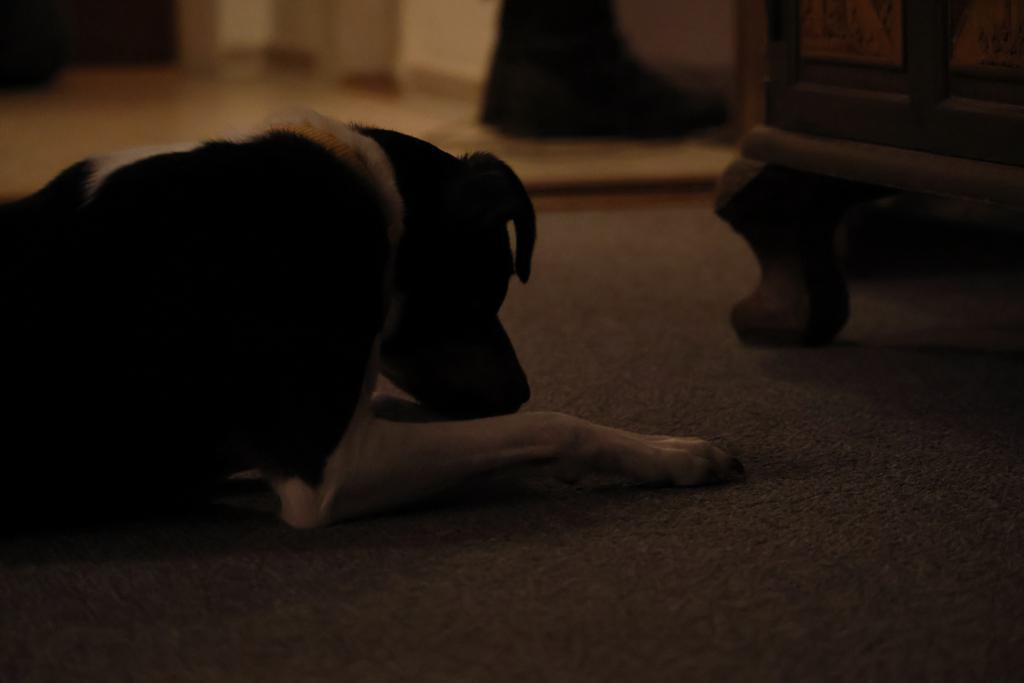Dog: (0, 97, 761, 560)
